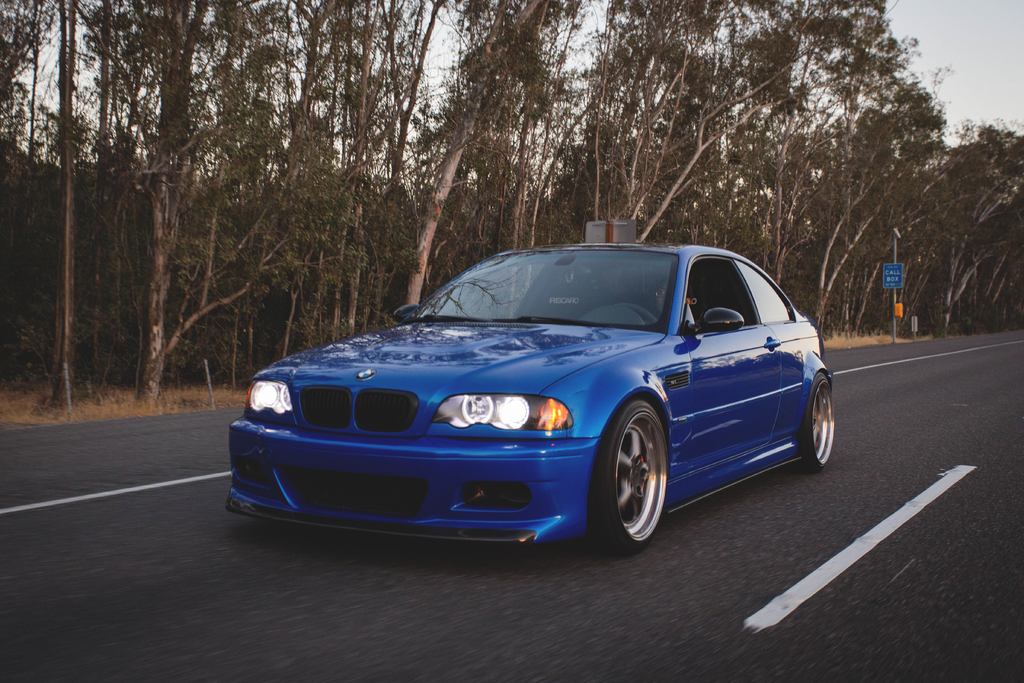Car: (224, 232, 833, 552)
